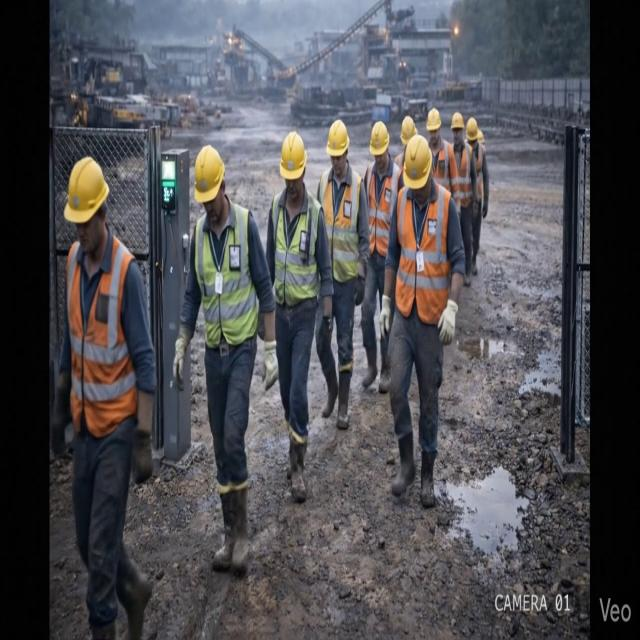Vest: (67, 236, 137, 437), (195, 202, 257, 348), (396, 185, 451, 324), (271, 192, 320, 306), (318, 169, 361, 282), (365, 162, 400, 256), (433, 140, 458, 200), (458, 142, 472, 207)
Worker: (51, 158, 156, 639), (174, 145, 277, 574), (379, 136, 464, 508), (266, 132, 333, 503), (315, 120, 369, 430), (361, 122, 400, 388), (451, 112, 478, 286), (426, 108, 459, 214), (466, 118, 488, 275)
helmet: (64, 157, 109, 223), (195, 145, 224, 203), (403, 135, 432, 189), (280, 132, 306, 180), (326, 119, 349, 157), (370, 121, 389, 155), (401, 116, 417, 146), (426, 108, 441, 131), (466, 118, 478, 142), (451, 112, 464, 130), (477, 129, 484, 143)
